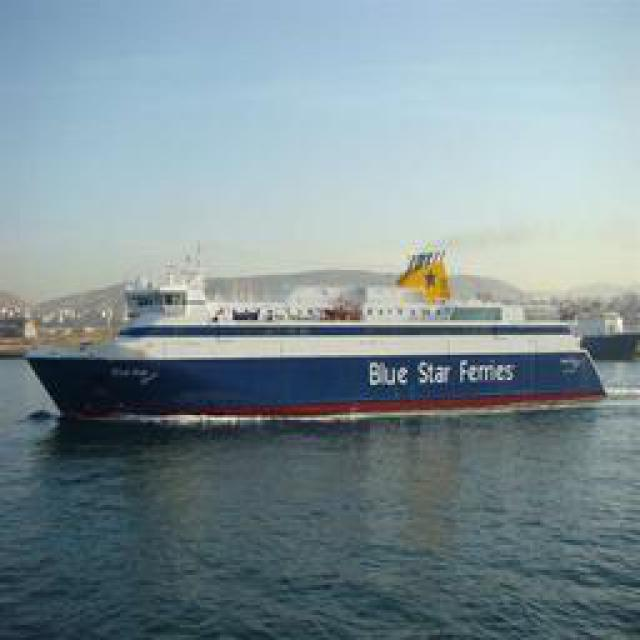Ship: (20, 259, 620, 422)
